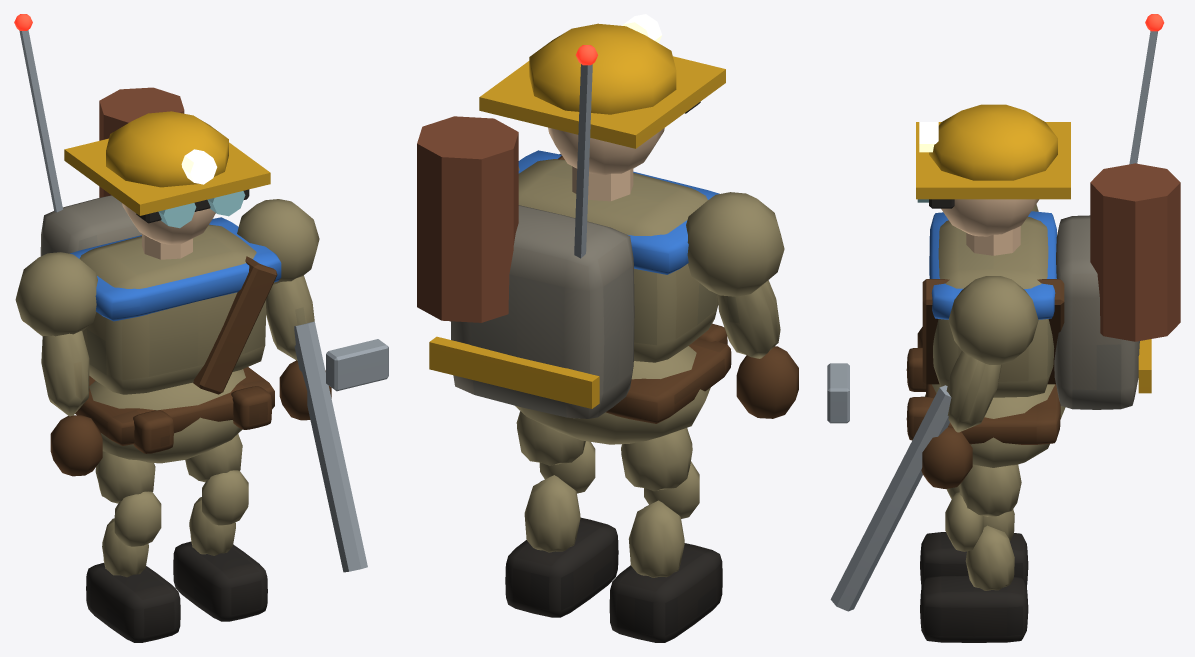
The model's file is serf.glb.
3 renders of one model, left to right at view 1: azimuth 30°, elevation 25°; view 2: azimuth 150°, elevation 25°; view 3: azimuth 270°, elevation 25°, orthographic. The views are drawn at different scales.
Parts seen in each view (by area): view 1: serf, arm_l, leg_l, leg_r, arm_r; view 2: serf, leg_l, arm_l, leg_r; view 3: serf, leg_r, arm_r, leg_l.
Part boxes in pixels (left/top/right/bottom): serf: left=14, top=14, right=388, bottom=572; arm_l: left=15, top=252, right=102, bottom=476; leg_l: left=86, top=451, right=180, bottom=642; leg_r: left=173, top=434, right=267, bottom=621; arm_r: left=237, top=199, right=331, bottom=420; serf: left=417, top=14, right=731, bottom=444; leg_l: left=609, top=428, right=722, bottom=642; arm_l: left=686, top=192, right=798, bottom=418; leg_r: left=505, top=411, right=618, bottom=617; serf: left=827, top=14, right=1180, bottom=611; leg_r: left=920, top=464, right=1028, bottom=642; arm_r: left=921, top=276, right=1038, bottom=488; leg_l: left=920, top=485, right=1028, bottom=586.
Bounding box in the file's own units: 0.5331 × 0.9691 × 0.5475.
